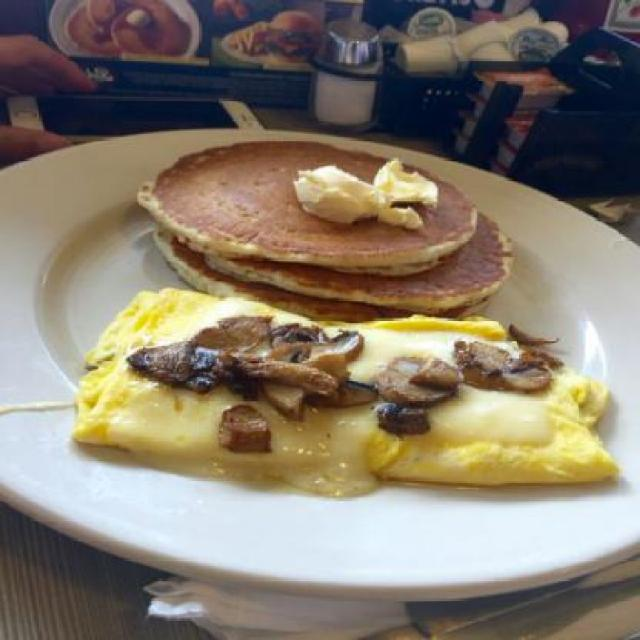omelette: (61, 297, 624, 486)
pancakes: (137, 135, 528, 314)
